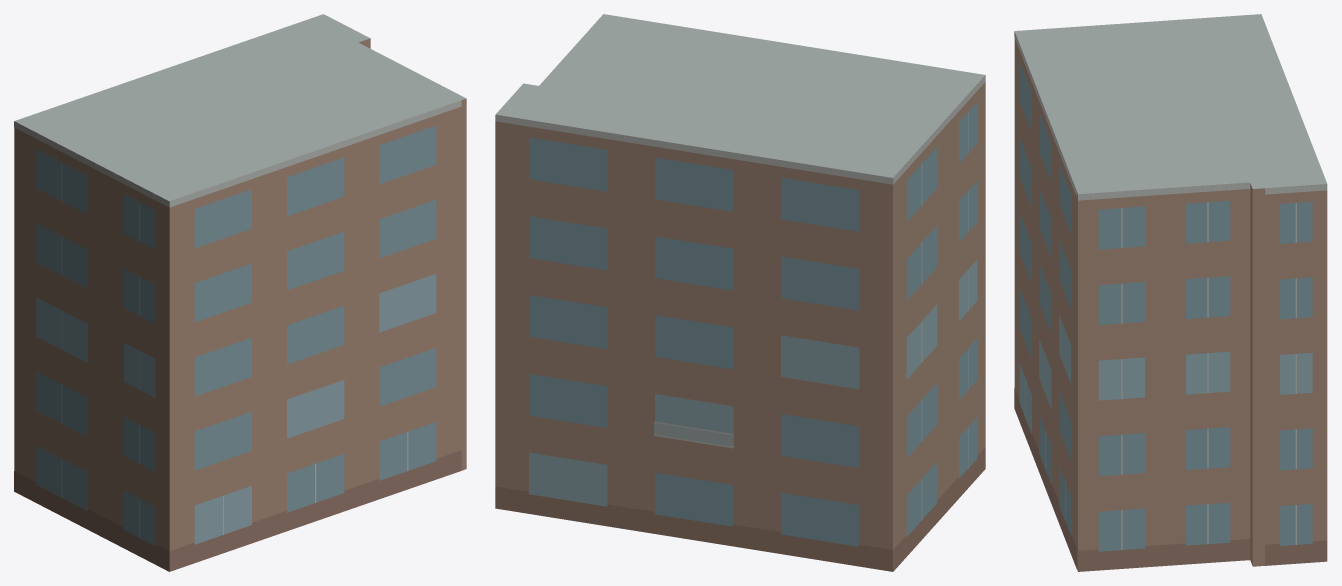
Rendered from survey-upis-32615623.glb.
3 views of the same model, side by side, from view 1: azimuth 30°, elevation 25°; view 2: azimuth 150°, elevation 25°; view 3: azimuth 270°, elevation 25° (orthographic). The views are drawn at different scales.
Visible parts, largest first — view 1: survey-upis-32615623.tmp; view 2: survey-upis-32615623.tmp; view 3: survey-upis-32615623.tmp.
Boxes of the visible parts, <box> form: survey-upis-32615623.tmp: <box>14,14,466,571</box>; survey-upis-32615623.tmp: <box>495,14,985,571</box>; survey-upis-32615623.tmp: <box>1014,14,1327,571</box>.
Bounding box in the file's own units: 14.86 × 14.5 × 10.9.
